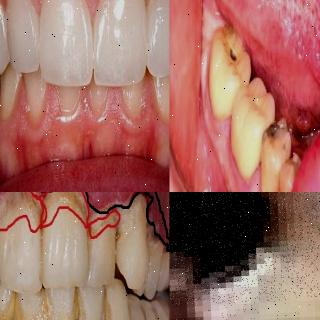Gum Swelling: (200, 0, 263, 192), (25, 94, 109, 144)
calculus: (42, 192, 88, 285), (0, 192, 45, 284), (118, 192, 148, 282), (87, 204, 119, 284), (149, 216, 167, 294), (76, 283, 108, 320), (45, 291, 81, 320), (106, 284, 134, 320), (15, 291, 48, 320)
cavities: (170, 192, 298, 306), (261, 111, 291, 183), (220, 32, 246, 86)
maligned: (114, 192, 150, 292)
